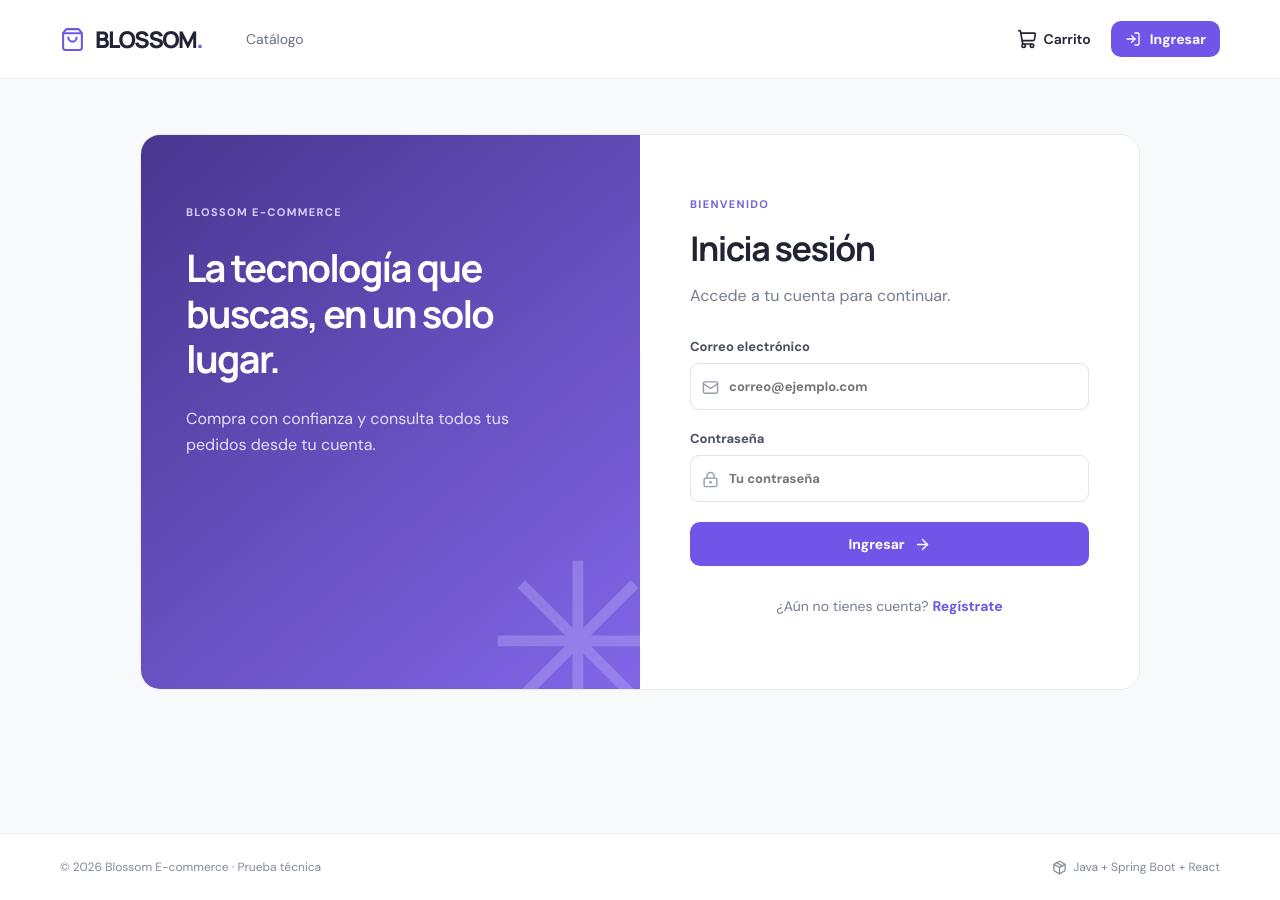
Test: Login y registro › inicia sesión, guarda el token y muestra la cuenta
In the field with placeholder "correo@ejemplo.com": (890, 387) [690, 363, 1089, 410], type "cliente@blossom.test"
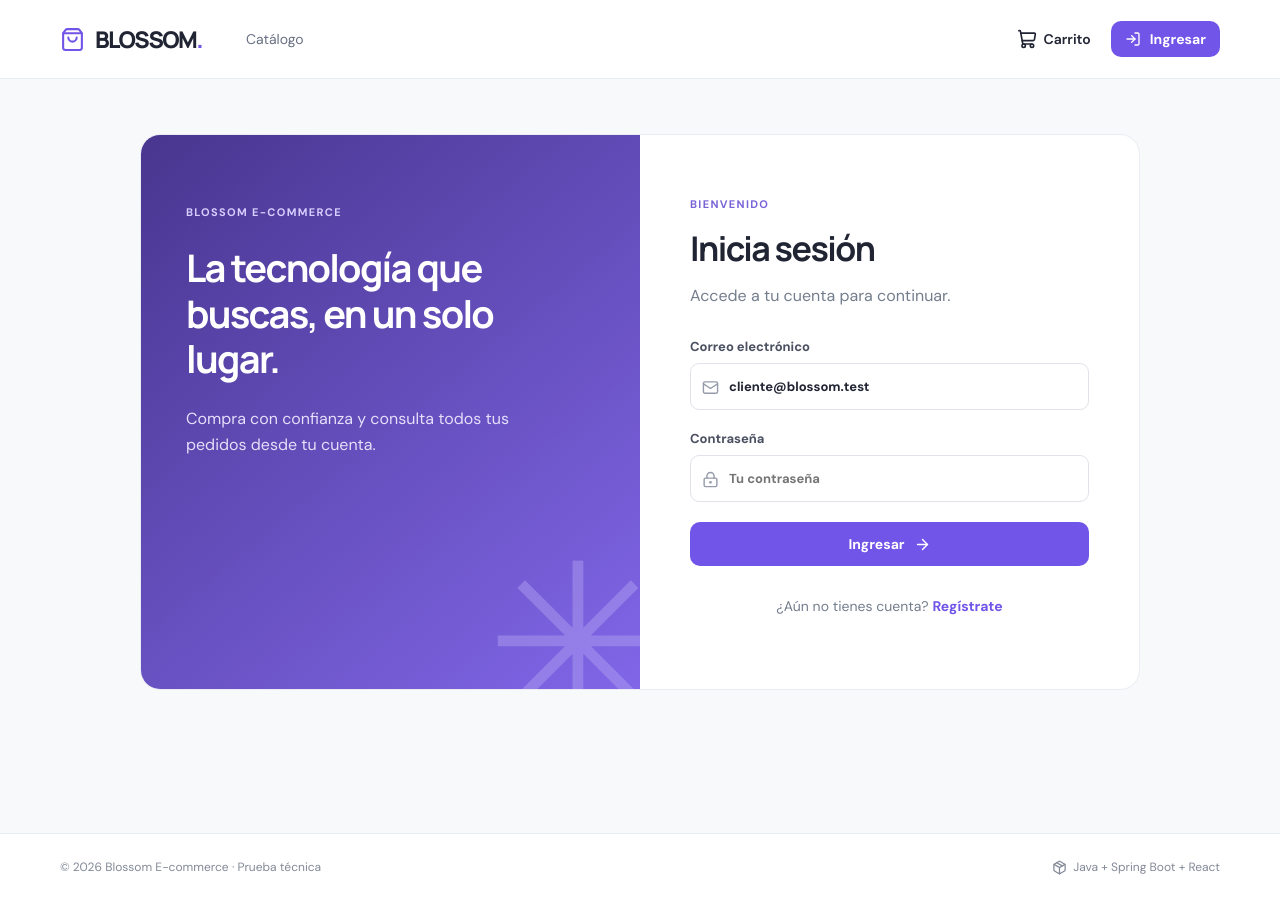
In the password field with placeholder "Tu contraseña": (890, 479) [690, 455, 1089, 502], type "Blossom123!"
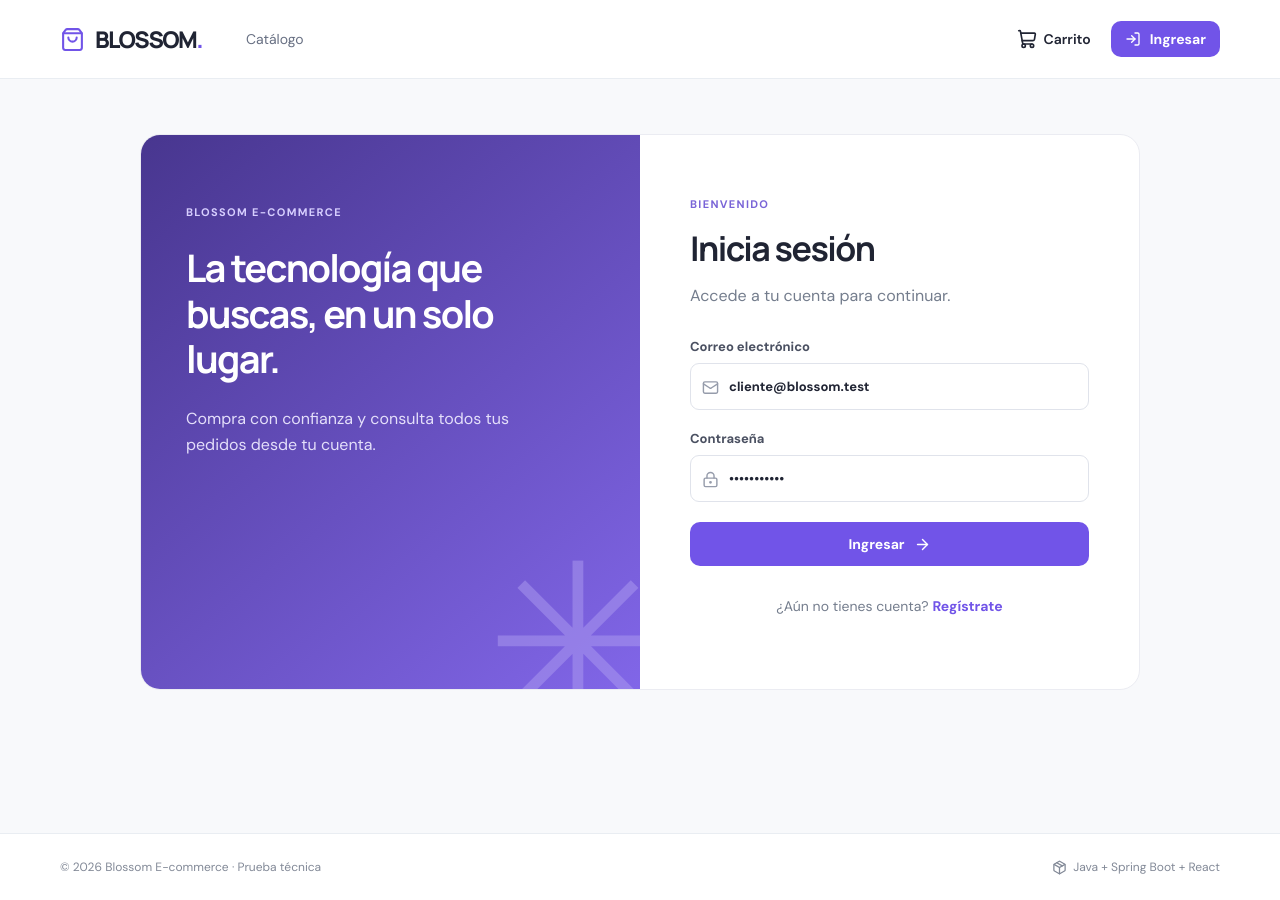
Click the button "Ingresar": (890, 544) [690, 522, 1089, 566]
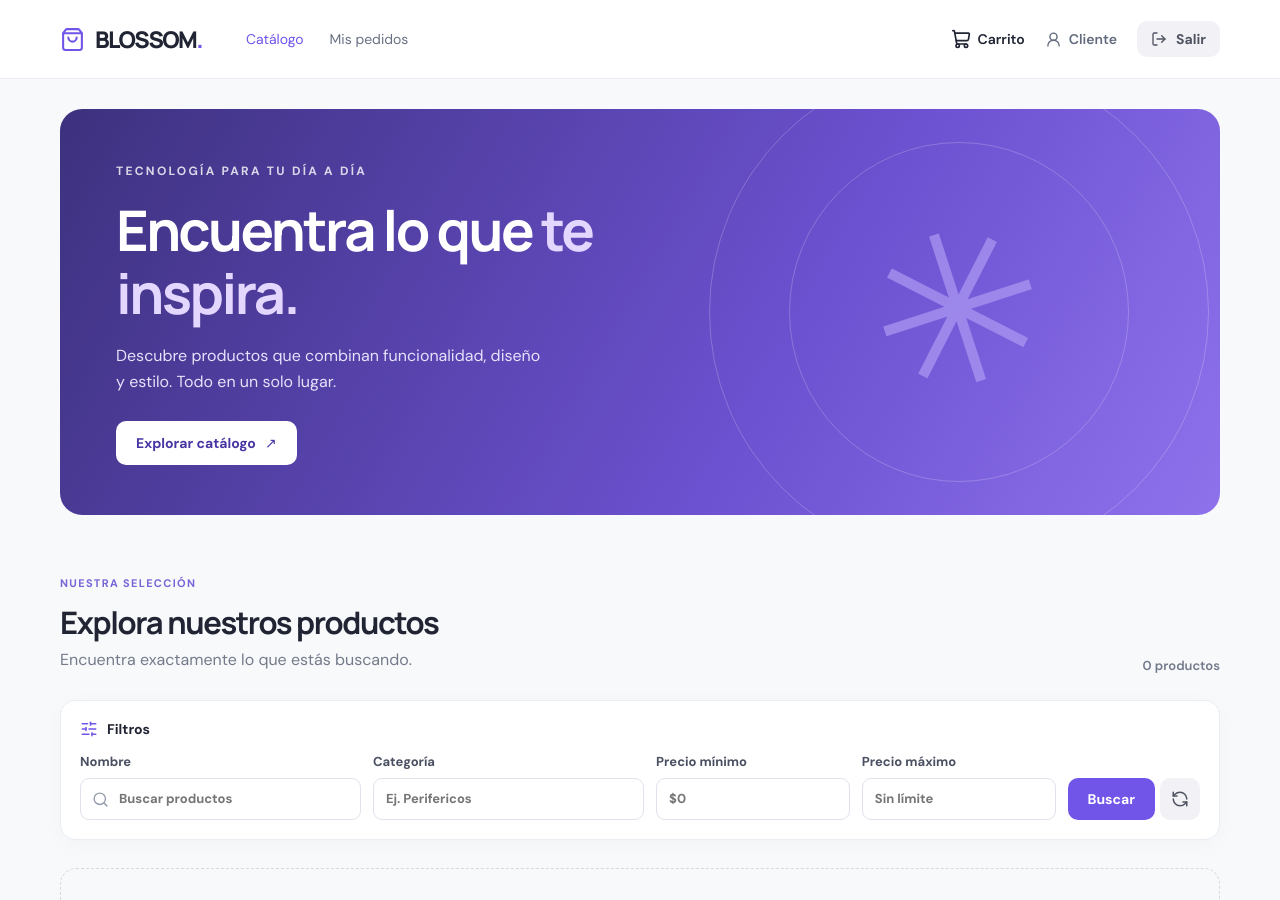
expect the button "Salir" is shown: met, box [1137, 21, 1220, 57]
